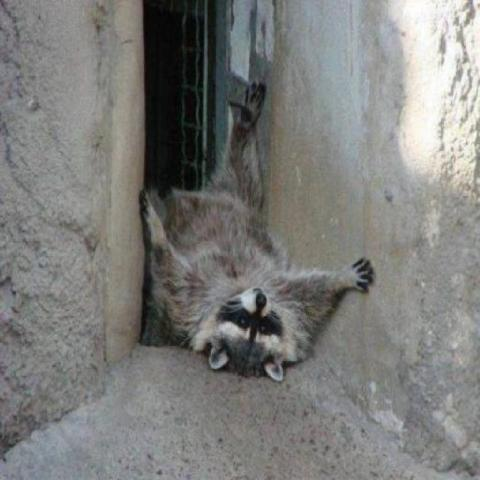small_animal: (138, 78, 376, 382)
